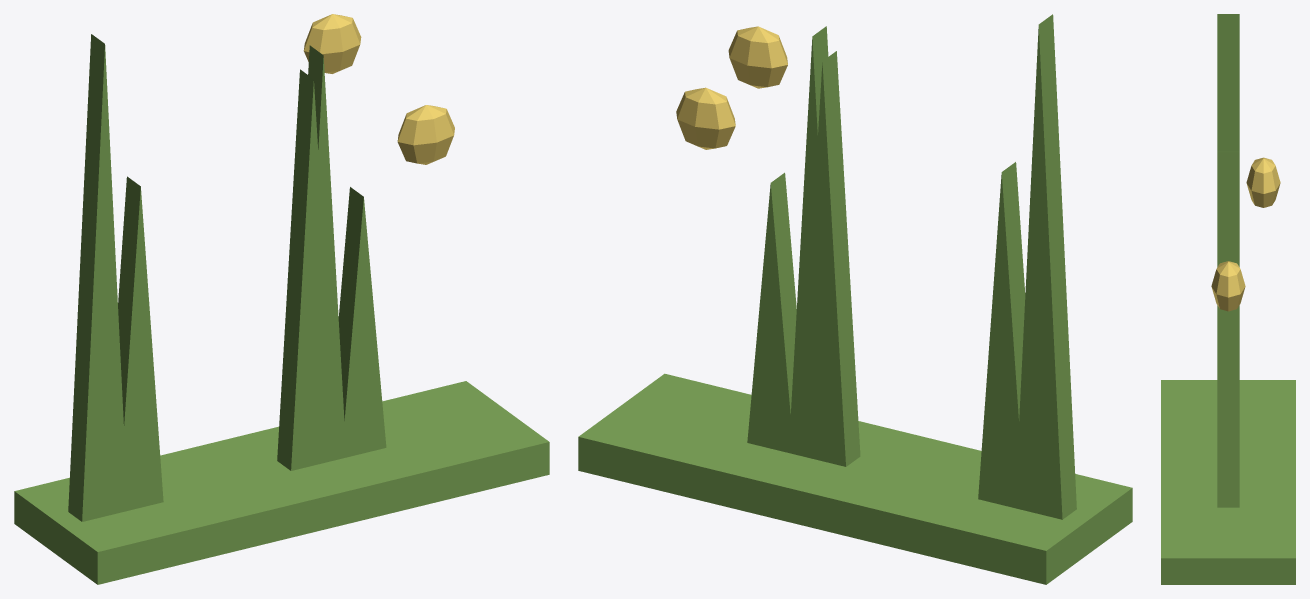
Rendered from GG-VEG-GRASS-COASTAL-TUFT-002_LOD_MAP.glb.
3 renders of one model, left to right at view 1: azimuth 30°, elevation 25°; view 2: azimuth 150°, elevation 25°; view 3: azimuth 270°, elevation 25°, orthographic. The views are drawn at different scales.
Visible parts, largest first — view 1: GG_VEG_MOD_BASE_001, GG_VEG_MODULE_4, GG_VEG_MODULE_5, GG_VEG_MODULE_3, GG_VEG_MODULE_1, GG_VEG_MODULE_2, GG_VEG_ACCENT_1, GG_VEG_ACCENT_2; view 2: GG_VEG_MOD_BASE_001, GG_VEG_MODULE_4, GG_VEG_MODULE_5, GG_VEG_MODULE_3, GG_VEG_MODULE_2, GG_VEG_MODULE_1, GG_VEG_ACCENT_1, GG_VEG_ACCENT_2; view 3: GG_VEG_MOD_BASE_001, GG_VEG_MODULE_1, GG_VEG_MODULE_4, GG_VEG_MODULE_2, GG_VEG_ACCENT_1, GG_VEG_ACCENT_2.
Boxes of the visible parts, x1,y1,x2,y2 form: GG_VEG_MOD_BASE_001: (14,381,549,584); GG_VEG_MODULE_4: (68,34,123,521); GG_VEG_MODULE_5: (277,69,336,470); GG_VEG_MODULE_3: (118,176,163,513); GG_VEG_MODULE_1: (338,187,386,458); GG_VEG_MODULE_2: (301,45,346,467); GG_VEG_ACCENT_1: (397,105,454,164); GG_VEG_ACCENT_2: (303,14,361,73); GG_VEG_MOD_BASE_001: (578,373,1132,584); GG_VEG_MODULE_4: (1015,14,1076,519); GG_VEG_MODULE_5: (800,51,860,466); GG_VEG_MODULE_3: (978,162,1025,507); GG_VEG_MODULE_2: (789,26,835,464); GG_VEG_MODULE_1: (747,172,796,453); GG_VEG_ACCENT_1: (676,87,735,149); GG_VEG_ACCENT_2: (728,26,787,88); GG_VEG_MOD_BASE_001: (1161,380,1295,584); GG_VEG_MODULE_1: (1217,305,1239,507); GG_VEG_MODULE_4: (1217,14,1239,150); GG_VEG_MODULE_2: (1217,152,1239,266); GG_VEG_ACCENT_1: (1211,261,1245,311); GG_VEG_ACCENT_2: (1246,157,1280,207).
Bounding box in the file's own units: 0.864 × 0.9236 × 0.276.
